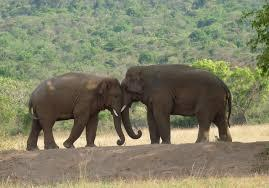elephant: (26, 64, 231, 149)
